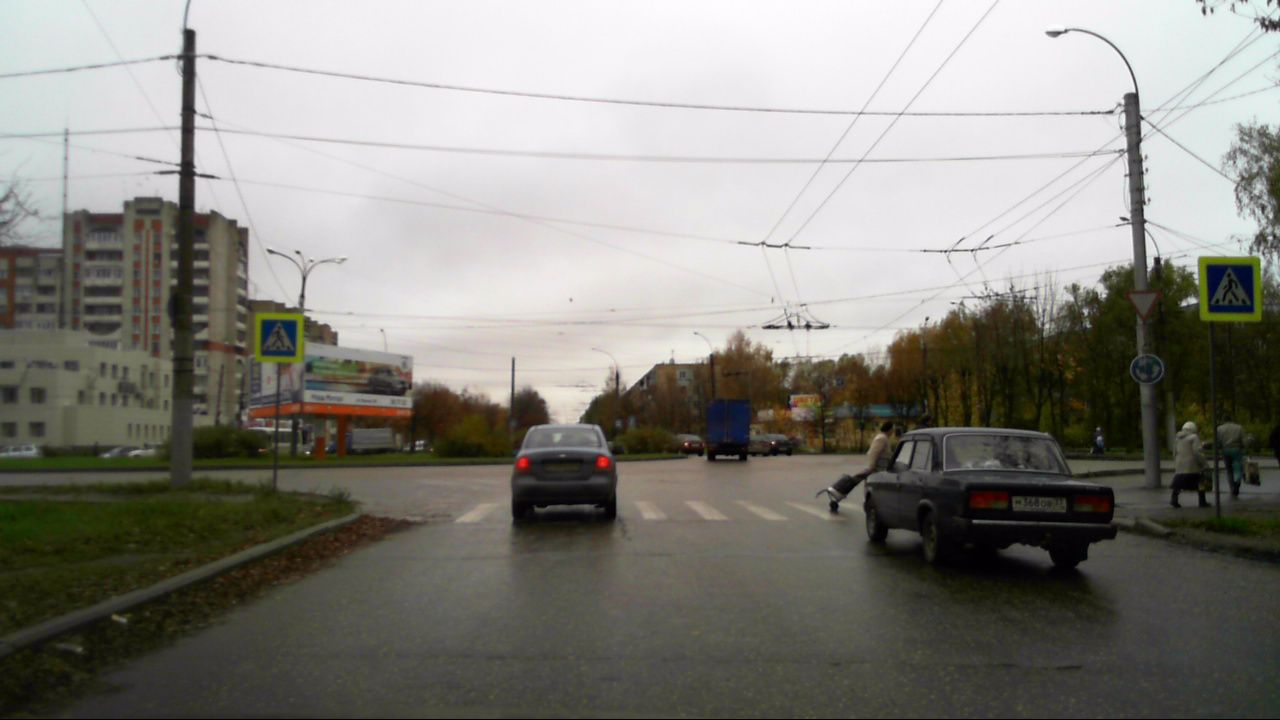Round-About: (1129, 353, 1164, 385)
